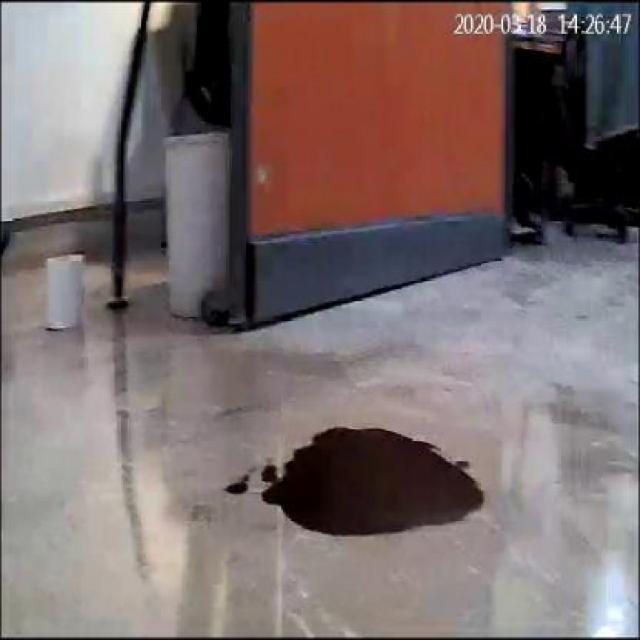spill: (266, 426, 479, 531)
